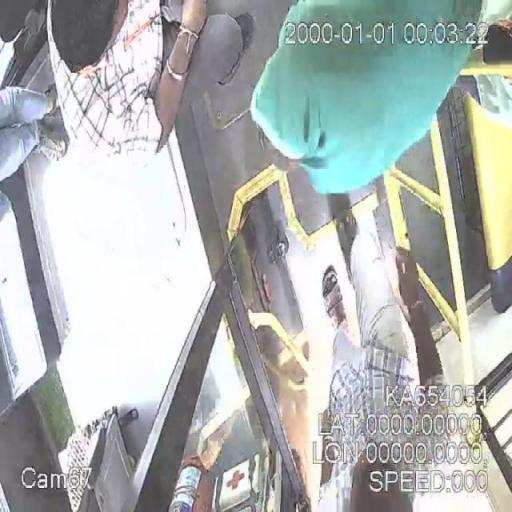persona: (306, 212, 451, 510), (42, 0, 250, 162), (166, 410, 237, 511)
